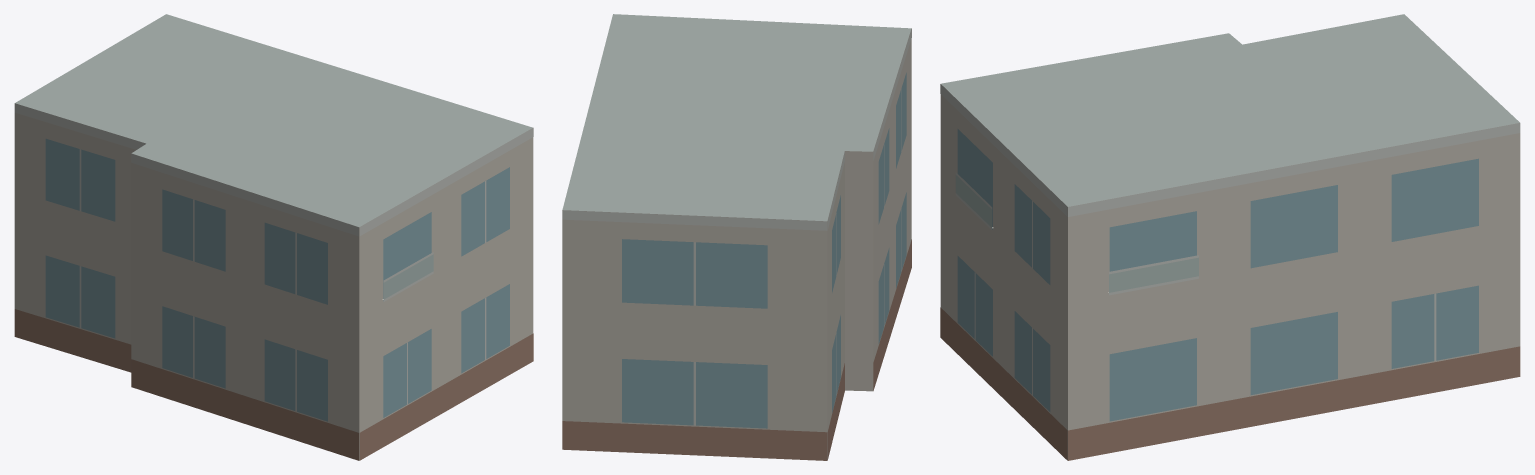
Rendered from survey-upis-32689541.glb.
3 renders of one model, left to right at view 1: azimuth 30°, elevation 25°; view 2: azimuth 150°, elevation 25°; view 3: azimuth 270°, elevation 25°, orthographic. The views are drawn at different scales.
Visible parts, largest first — view 1: survey-upis-32689541.tmp; view 2: survey-upis-32689541.tmp; view 3: survey-upis-32689541.tmp.
Part boxes in pixels (x1=…): survey-upis-32689541.tmp: x1=14, y1=14, x2=533, y2=460; survey-upis-32689541.tmp: x1=562, y1=14, x2=911, y2=460; survey-upis-32689541.tmp: x1=940, y1=14, x2=1520, y2=460.
Bounding box in the file's own units: 9.95 × 6.1 × 12.64.
